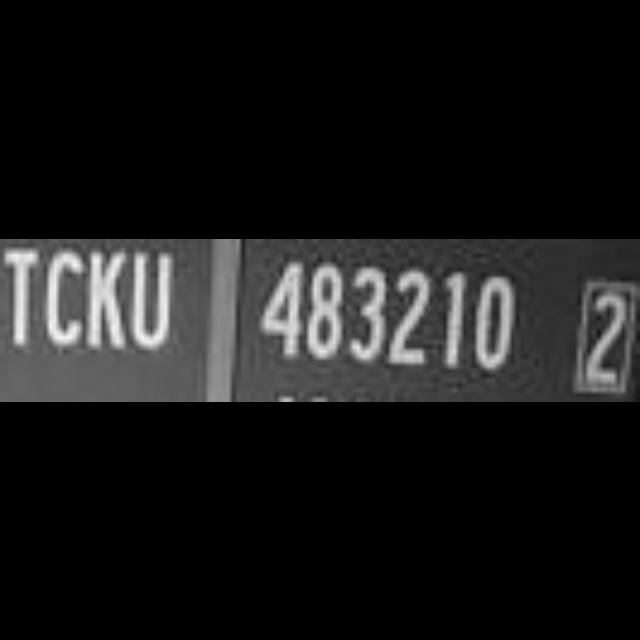0: (472, 264, 522, 376)
1: (438, 264, 468, 372)
2: (580, 282, 628, 390), (391, 257, 432, 369)
3: (345, 258, 387, 364)
4: (258, 255, 304, 359)
8: (307, 252, 341, 360)
c: (44, 245, 82, 353)
k: (86, 246, 128, 352)
t: (3, 243, 42, 351)
u: (133, 248, 173, 352)
